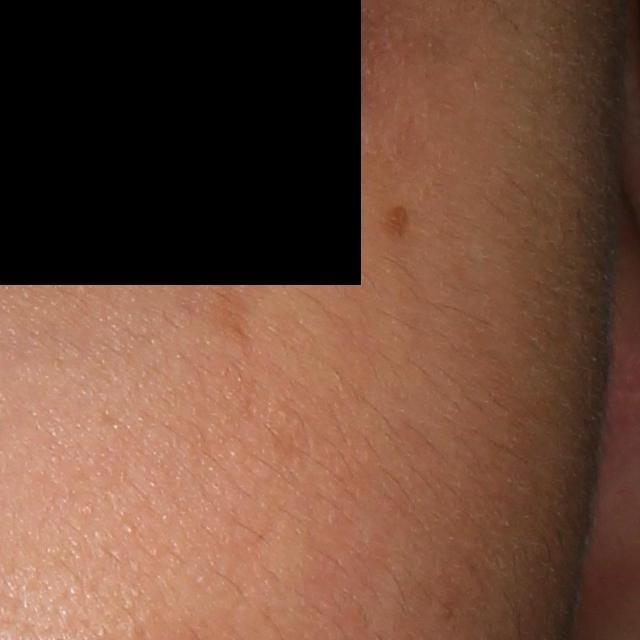melasma: (380, 201, 415, 243)
